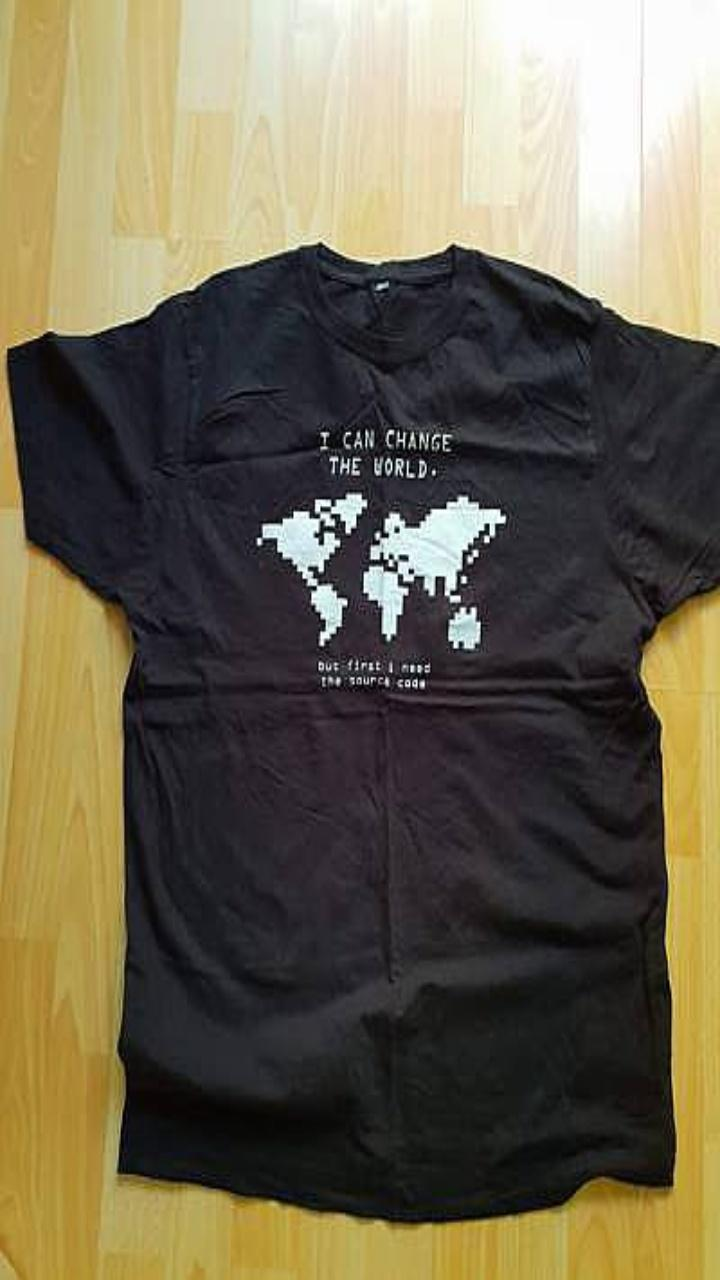T-Shirt: (7, 242, 719, 1219)
